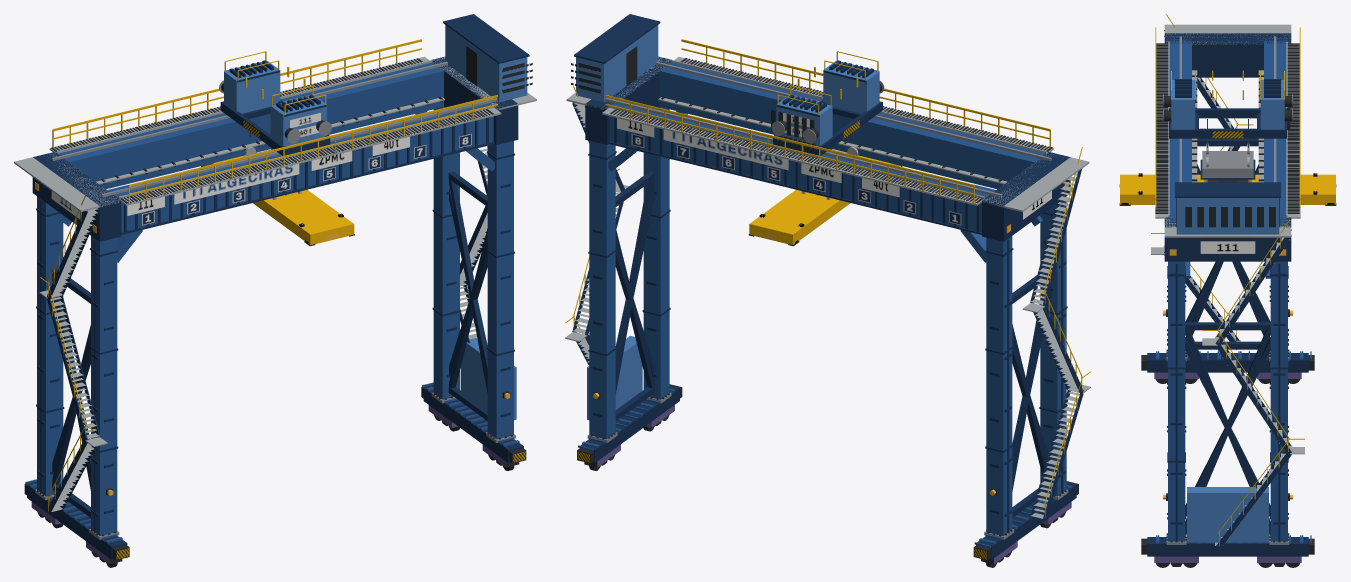
File: asc.glb
3 renders of one model, left to right at view 1: azimuth 30°, elevation 25°; view 2: azimuth 150°, elevation 25°; view 3: azimuth 270°, elevation 25°, orthographic. The views are drawn at different scales.
Visible parts, largest first — view 1: gantry_geo (×3), trolley_geo (×3), hoist_geo; view 2: gantry_geo (×3), trolley_geo (×3), hoist_geo; view 3: gantry_geo (×3), trolley_geo (×3), hoist_geo (×3).
Boxes of the visible parts, left/top/right/bottom form: gantry_geo (×3): left=14, top=14, right=536, bottom=567; trolley_geo (×3): left=219, top=51, right=331, bottom=155; hoist_geo: left=202, top=148, right=354, bottom=240; gantry_geo (×3): left=565, top=14, right=1090, bottom=567; trolley_geo (×3): left=771, top=51, right=884, bottom=155; hoist_geo: left=749, top=148, right=900, bottom=240; gantry_geo (×3): left=1141, top=14, right=1314, bottom=567; trolley_geo (×3): left=1163, top=70, right=1292, bottom=138; hoist_geo (×3): left=1120, top=143, right=1335, bottom=204.
Size of the model in its own units: 29.3 by 25.41 by 12.7.
1 material, 1 textured.
